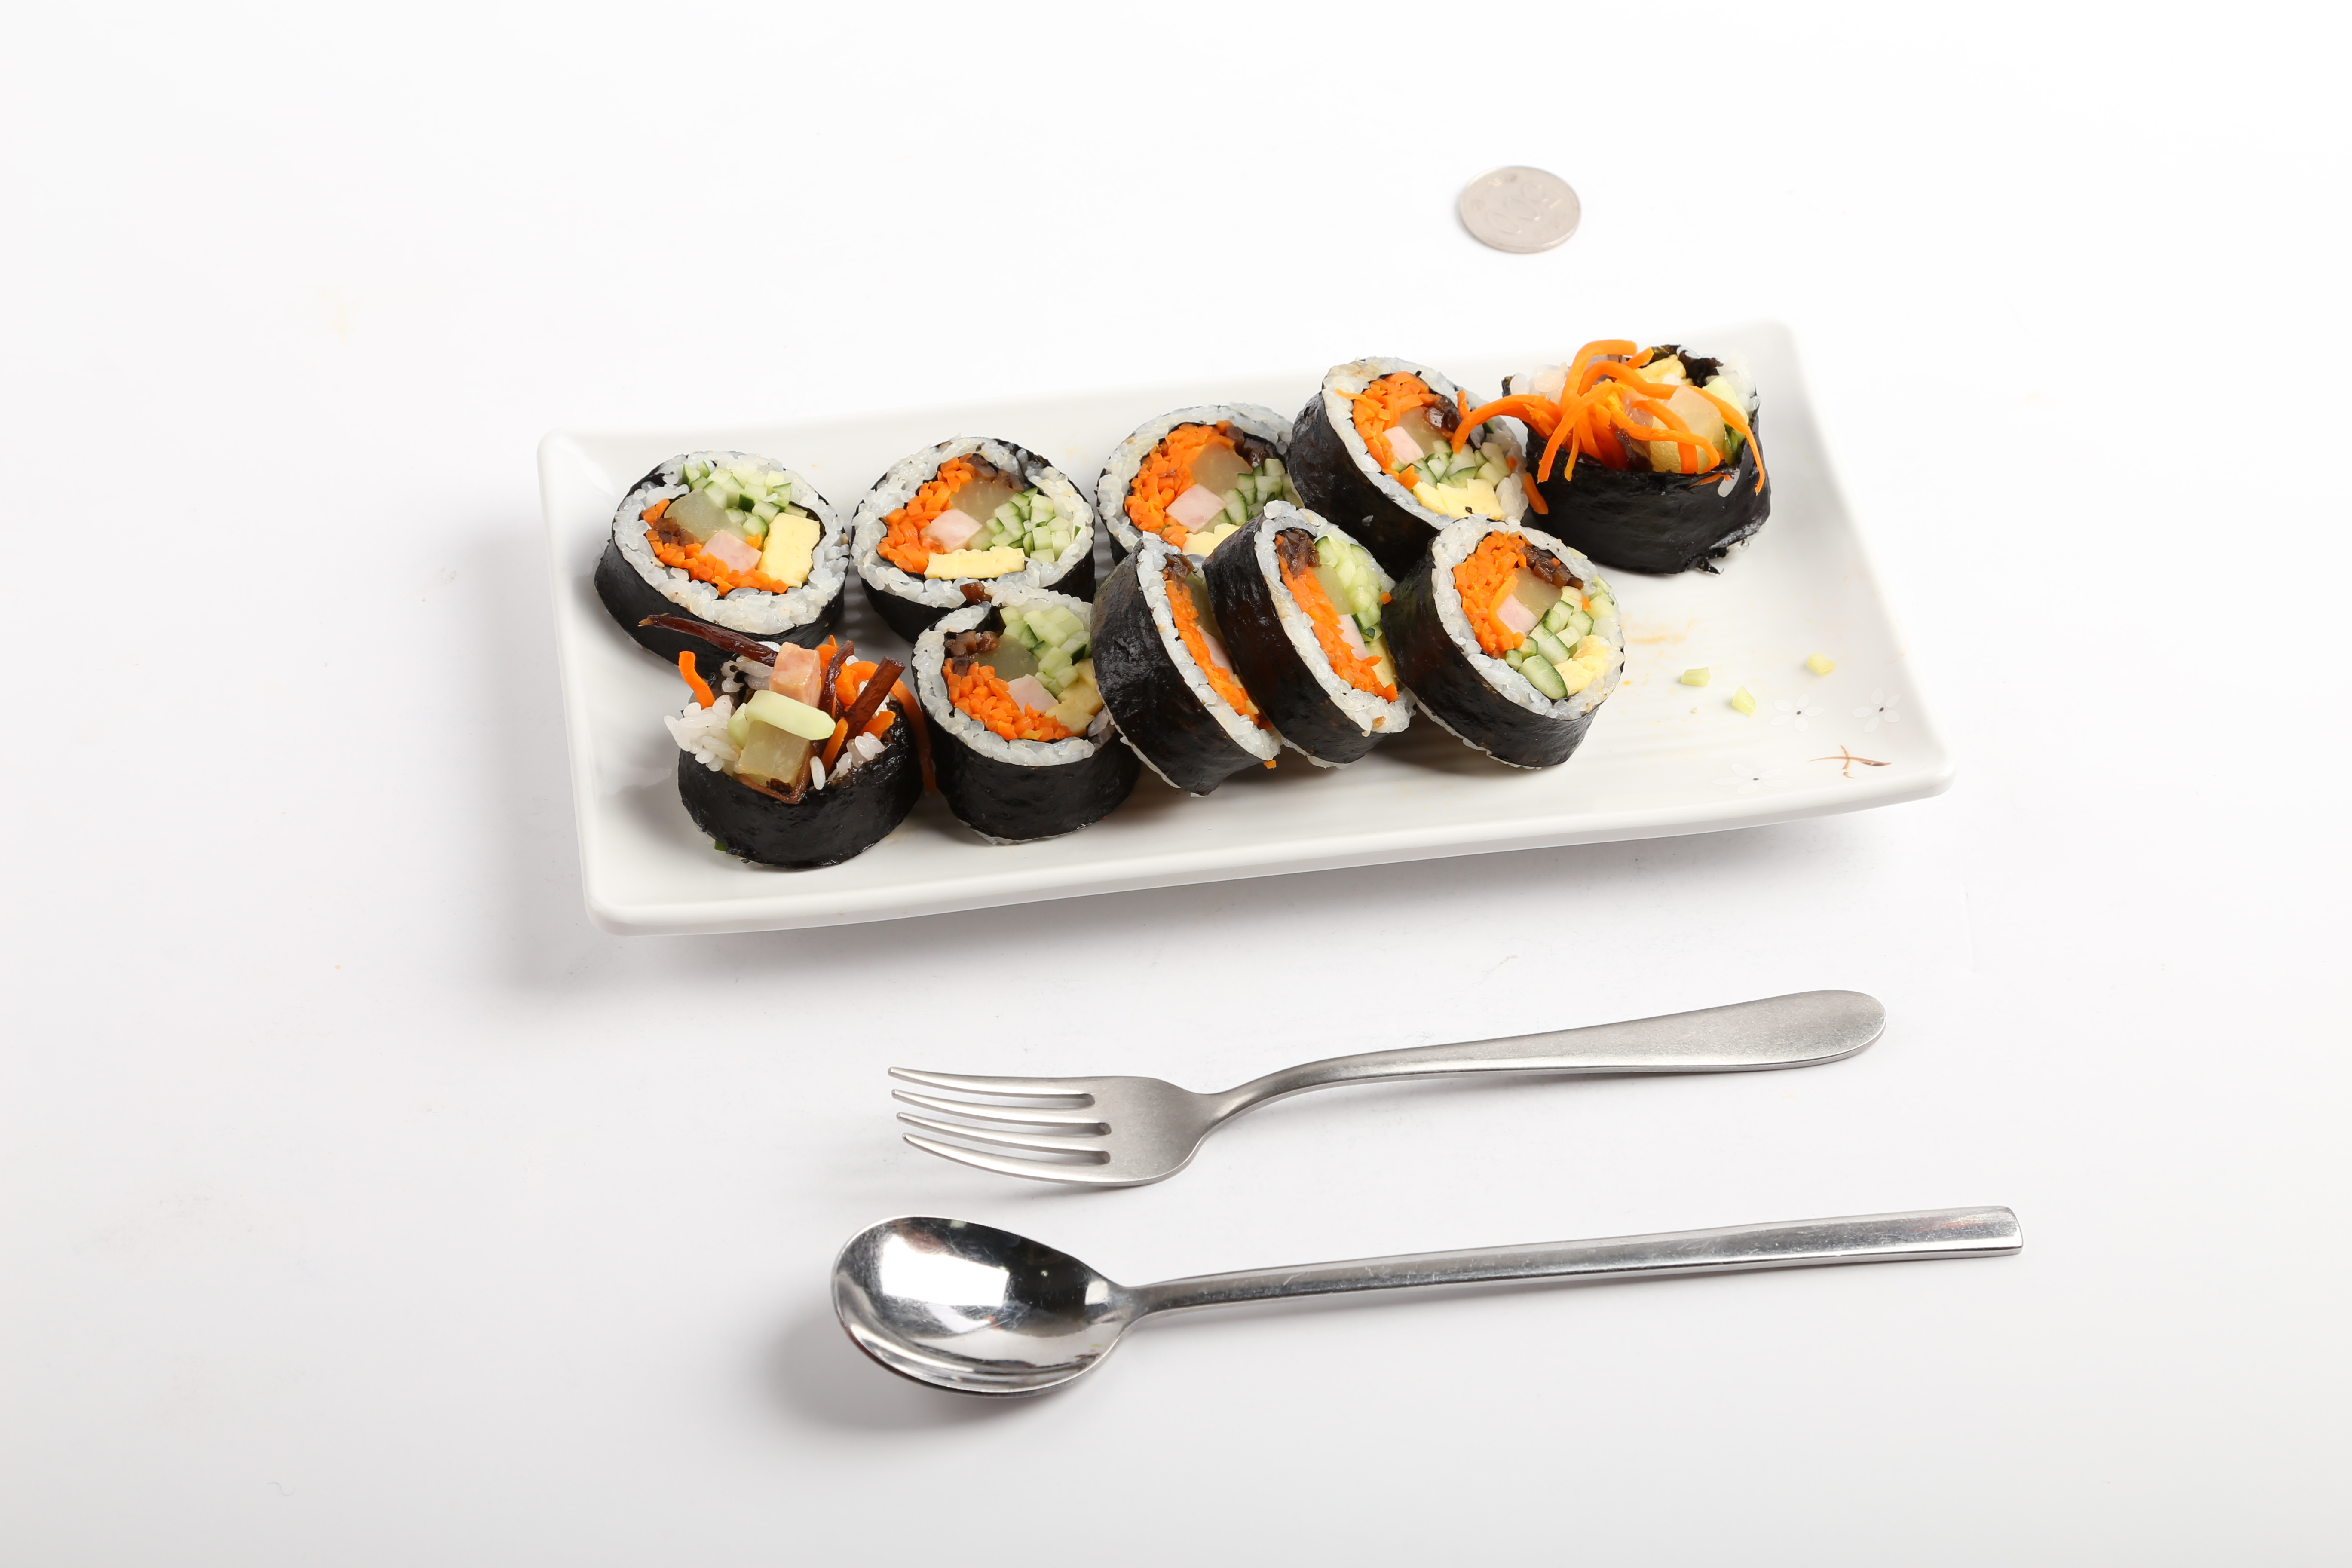dish: (534, 317, 1962, 947)
ref_coin: (1449, 159, 1584, 259)
ref_fork: (882, 1057, 1304, 1192)
ref_spoon: (824, 1209, 1211, 1398)
김밥: (593, 339, 1767, 873)
